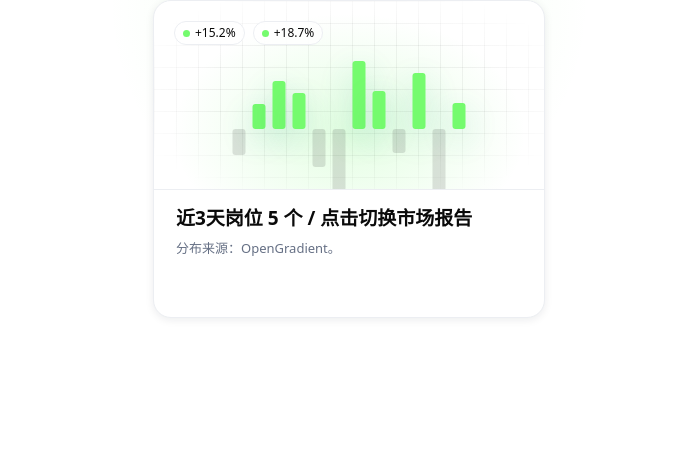
Test: IntelligencePanel › renders an empty sections fallback for malformed living report content
Step 1. Click the element named "打开猎场控制台" → (349, 159), box top-left (153, 0), bottom-right (545, 318)
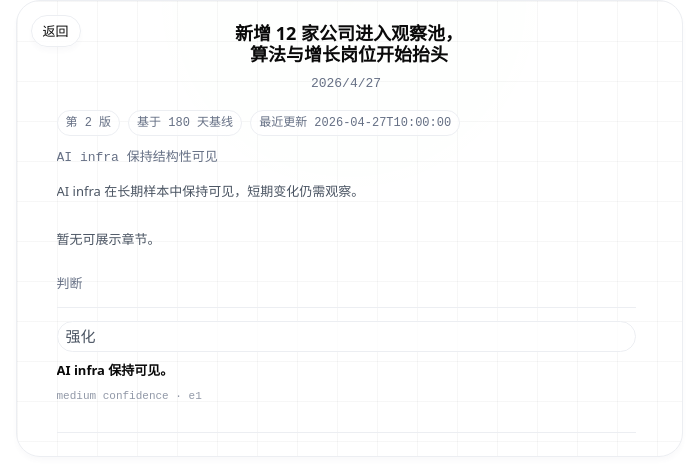
Now the text "暂无可展示章节。" is shown, box top-left (56, 230), bottom-right (160, 248)
